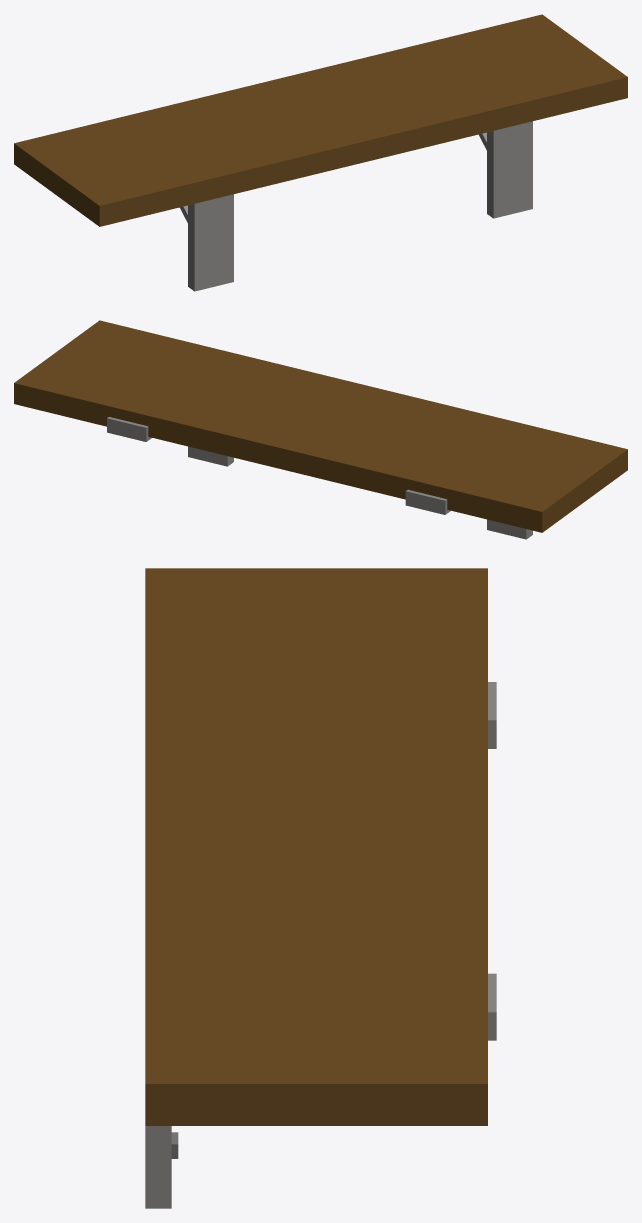
File: Shelves.fbx
3 views of the same model, one above another, from view 1: azimuth 30°, elevation 25°; view 2: azimuth 150°, elevation 25°; view 3: azimuth 270°, elevation 25° (orthographic). The views are drawn at different scales.
Parts seen in each view (by area): view 1: Cube.061; view 2: Cube.061; view 3: Cube.061.
Boxes of the visible parts, left/top/right/bottom form: Cube.061: left=14, top=14, right=627, bottom=291; Cube.061: left=14, top=320, right=627, bottom=539; Cube.061: left=145, top=568, right=496, bottom=1208.
Bounding box in the file's own units: 160 × 31.4 × 45.94.
